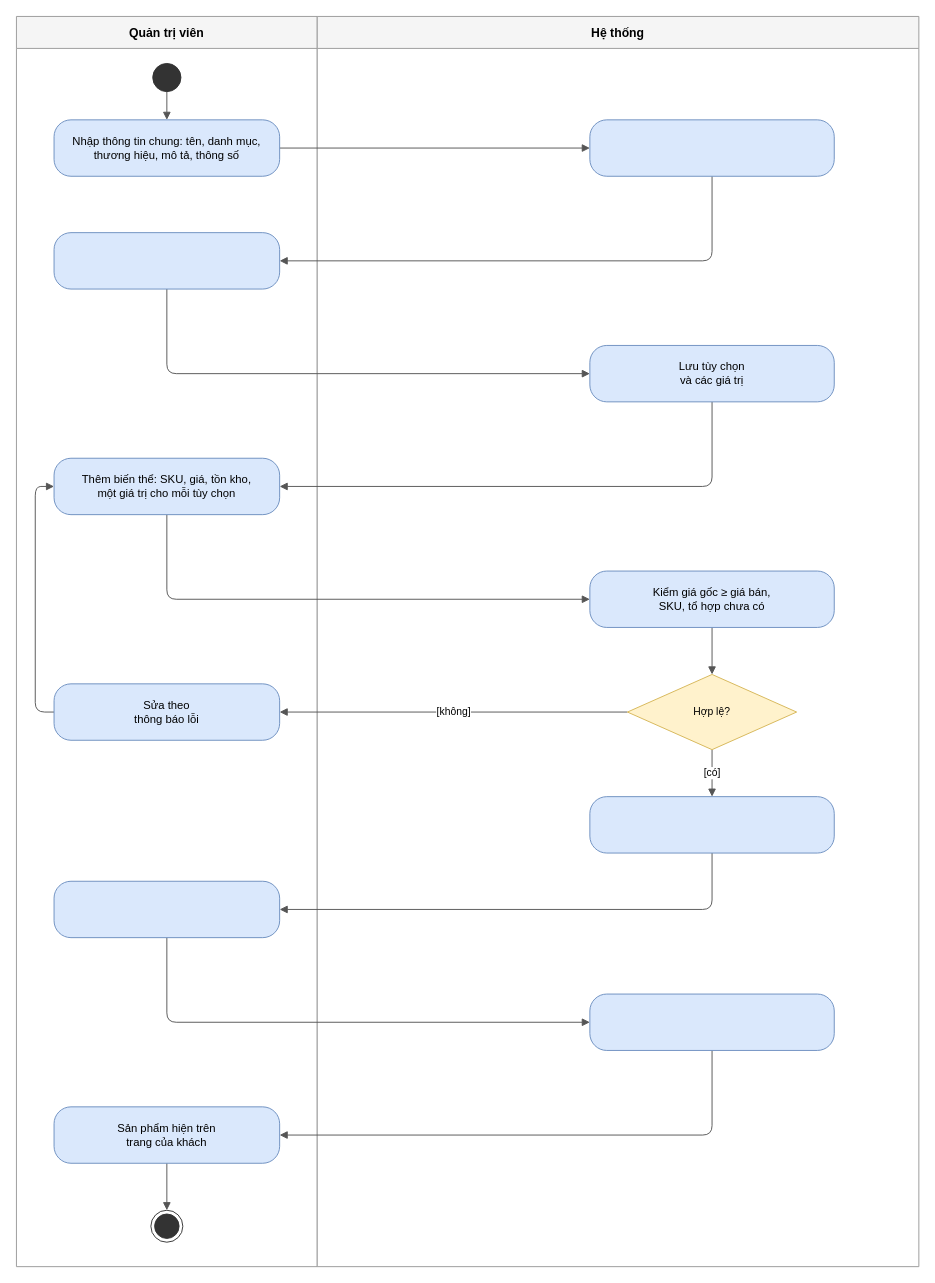
This 935x1283 diagram has some shape labels left out. The shapes that lost their labels are listed below. From the top down, each one's centre as x and y in pixels, then its label:
the point at 711,147: Lọc HTML mô tả, tạo slug không dấu, lưu sản phẩm (chưa bán được)
the point at 166,260: Thêm tùy chọn và giá trị (màu sắc, dung lượng...)
the point at 711,824: Lưu biến thể, ghi lịch sử kho khởi tạo, cập nhật giá hiển thị
the point at 166,909: Tải ảnh, gắn ảnh với màu, chọn ảnh chính
the point at 711,1021: Lưu ảnh (tối đa một ảnh chính)
